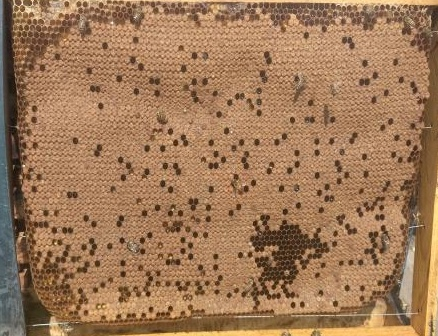cria: (17, 4, 431, 327)
